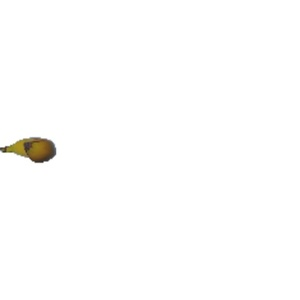banana: (1, 130, 59, 167)
